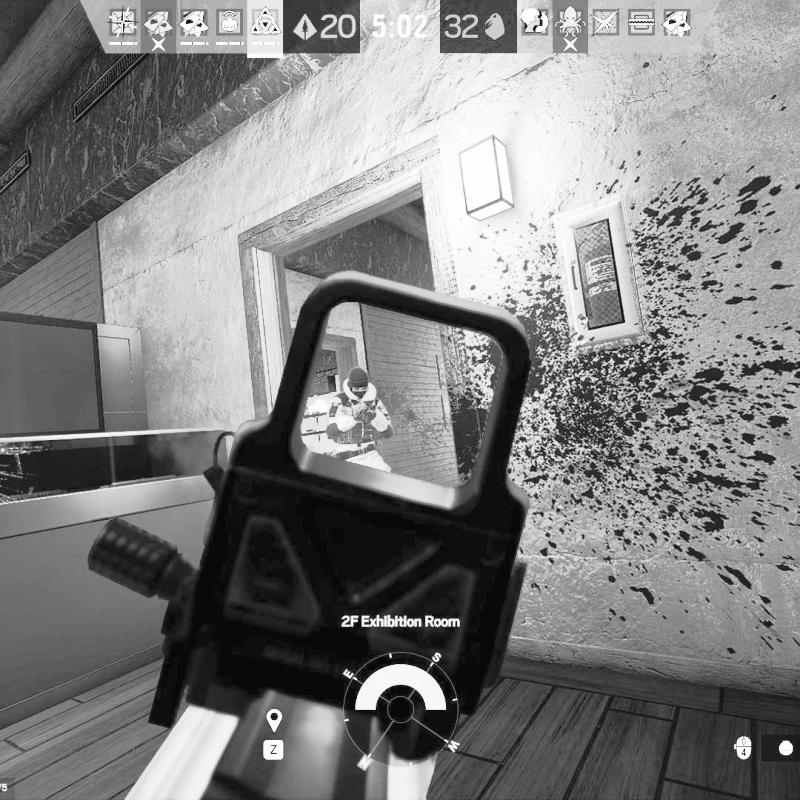Character: (324, 365, 396, 475)
Head: (346, 365, 374, 400)
